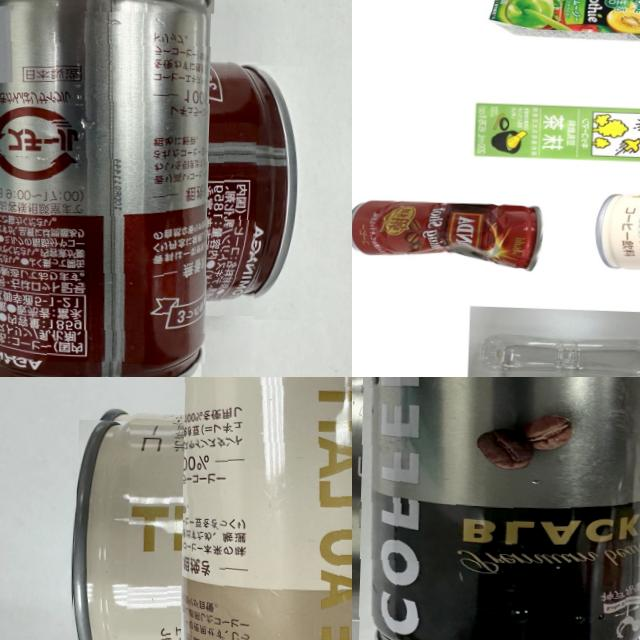Aluminium Foil: (468, 99, 640, 166), (488, 0, 640, 46)
Can: (0, 3, 261, 367), (352, 377, 640, 640), (118, 377, 352, 640), (352, 194, 545, 269), (591, 187, 640, 279)
Transparent Plastic Bottle: (475, 329, 640, 377)
